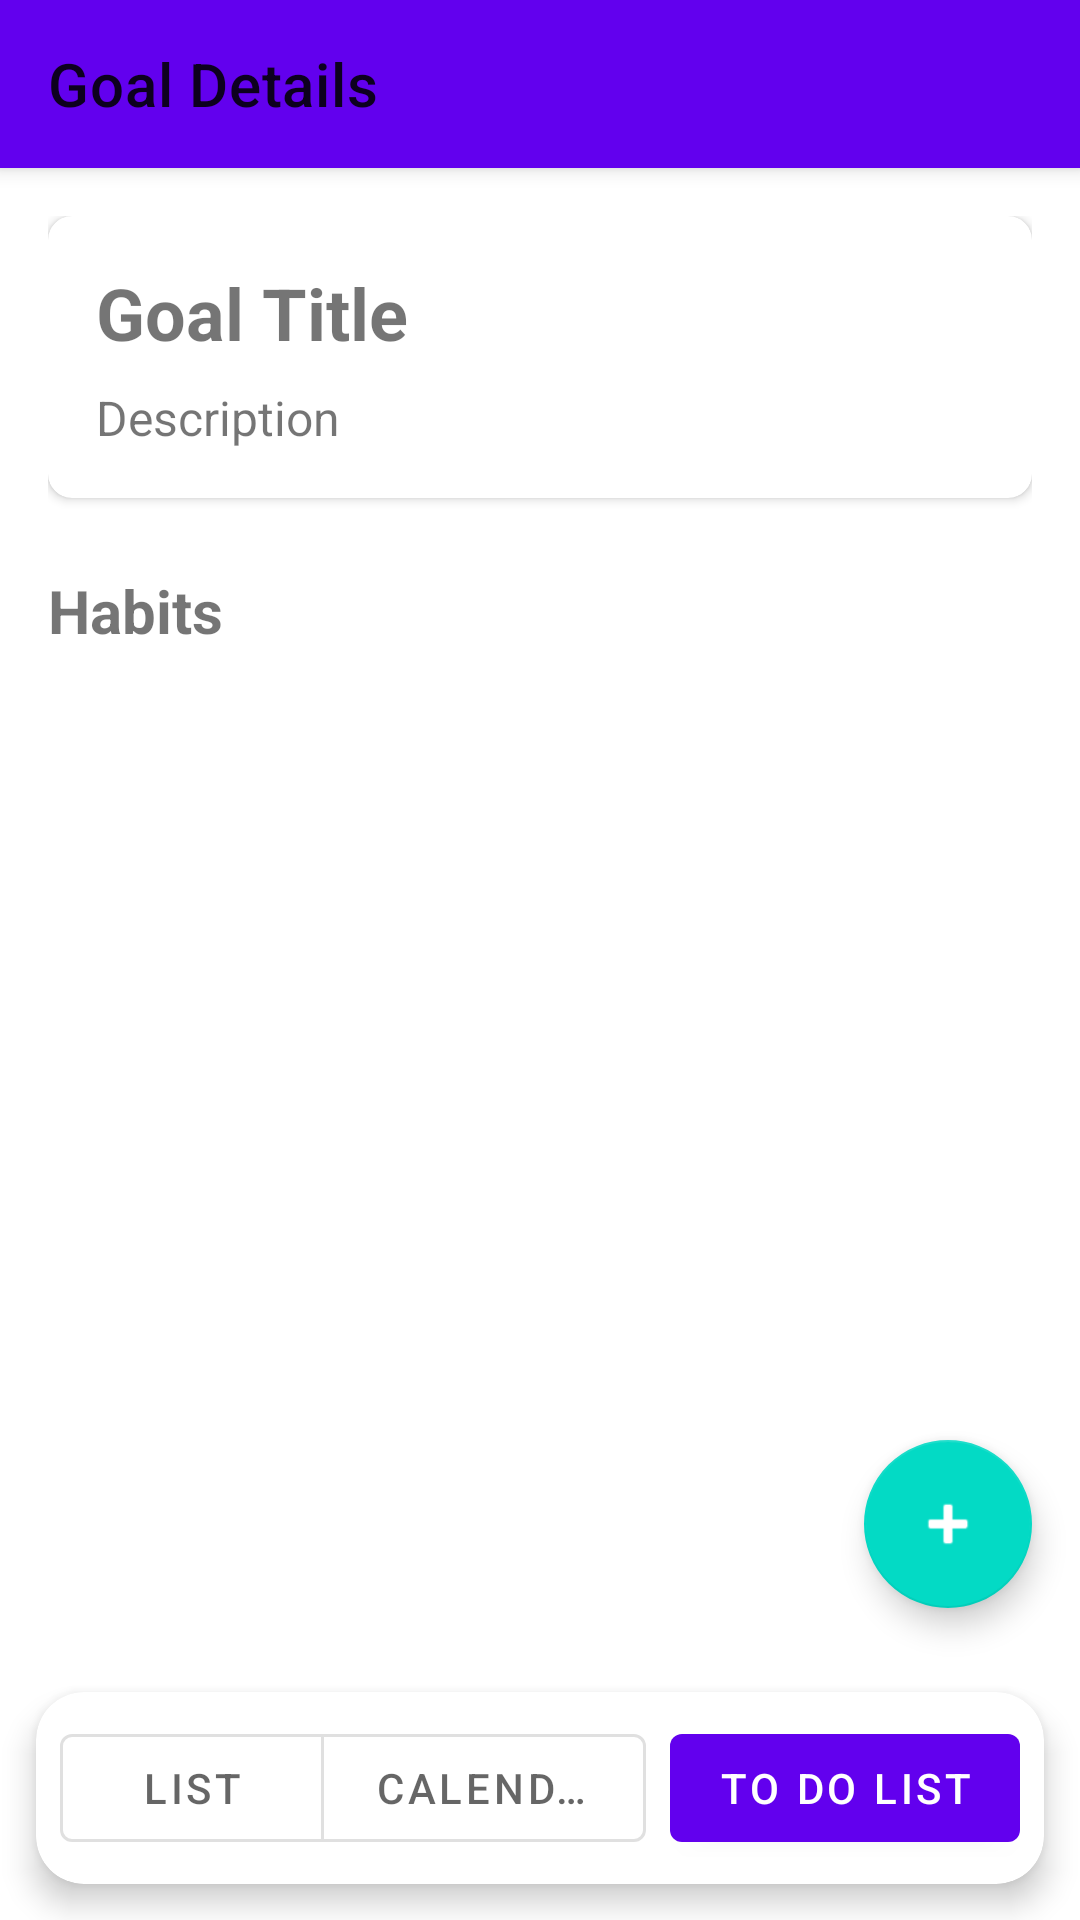

Where icons sit on this 1080x1920 app screen, as (x1, y1, x2, y2):
add: (864, 1440, 1032, 1608)
